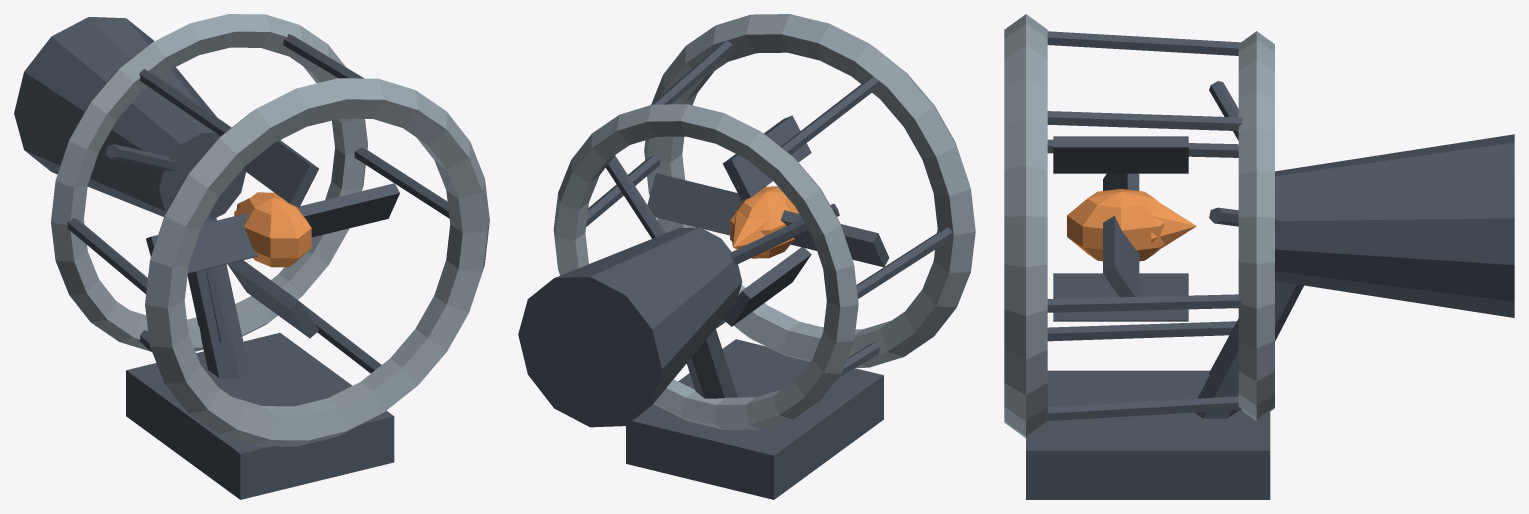
Rendered from sub_thruster_small.glb.
3 renders of one model, left to right at view 1: azimuth 30°, elevation 25°; view 2: azimuth 150°, elevation 25°; view 3: azimuth 270°, elevation 25°, orthographic. The views are drawn at different scales.
Parts seen in each view (by area): view 1: sub_thruster_small_dark, sub_thruster_small_hull, sub_thruster_small_accent; view 2: sub_thruster_small_dark, sub_thruster_small_hull, sub_thruster_small_accent; view 3: sub_thruster_small_dark, sub_thruster_small_hull, sub_thruster_small_accent.
Boxes of the visible parts, x1,y1,x2,y2 form: sub_thruster_small_dark: [14, 17, 449, 499]; sub_thruster_small_hull: [51, 14, 489, 446]; sub_thruster_small_accent: [234, 192, 311, 267]; sub_thruster_small_dark: [518, 41, 952, 499]; sub_thruster_small_hull: [553, 14, 975, 429]; sub_thruster_small_accent: [730, 186, 798, 258]; sub_thruster_small_dark: [1026, 31, 1514, 499]; sub_thruster_small_hull: [1004, 14, 1274, 437]; sub_thruster_small_accent: [1067, 189, 1196, 261].
Bounding box in the file's own units: 1.57 × 1.73 × 1.88.
